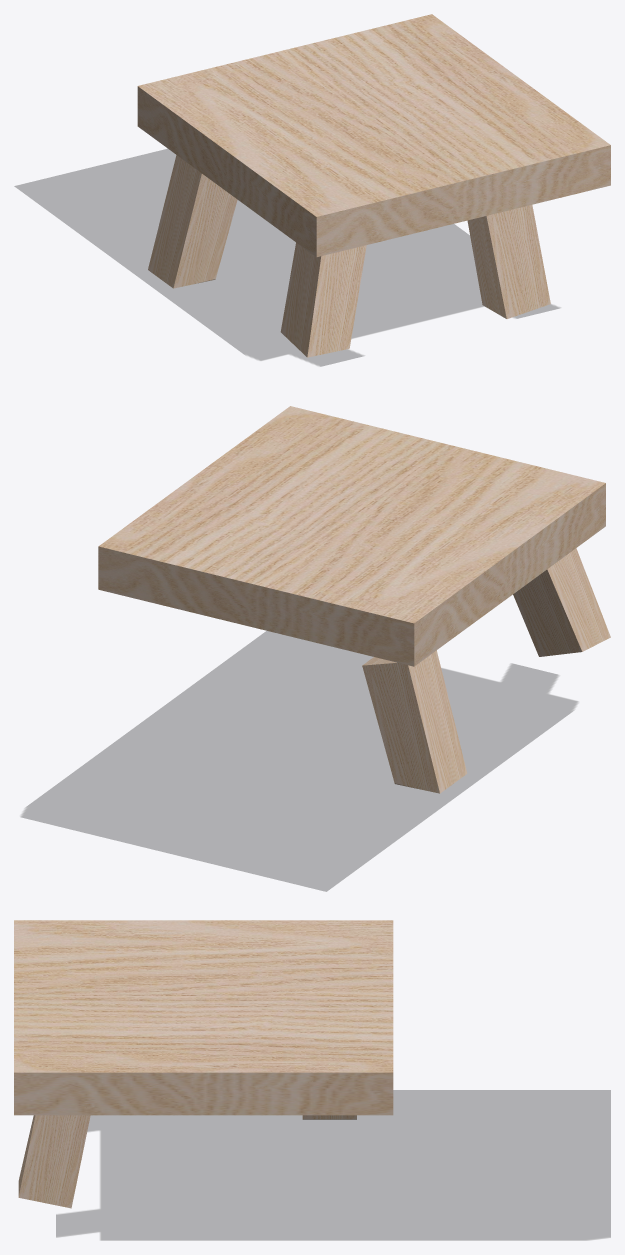
The model's file is block_23.glb.
3 views of the same model, one above another, from view 1: azimuth 30°, elevation 25°; view 2: azimuth 150°, elevation 25°; view 3: azimuth 270°, elevation 25° (orthographic). The views are drawn at different scales.
Visible parts, largest first — view 1: hitObj, block; view 2: hitObj, block; view 3: hitObj, block.
Boxes of the visible parts, x1,y1,x2,y2 form: hitObj: [137, 14, 610, 357]; block: [14, 149, 559, 366]; hitObj: [98, 406, 610, 793]; block: [21, 631, 577, 891]; hitObj: [14, 920, 393, 1208]; block: [56, 1090, 610, 1240].
Bounding box in the file's own units: 10.71 × 5.55 × 16.56.
Materials: 2 (2 with a texture image).
